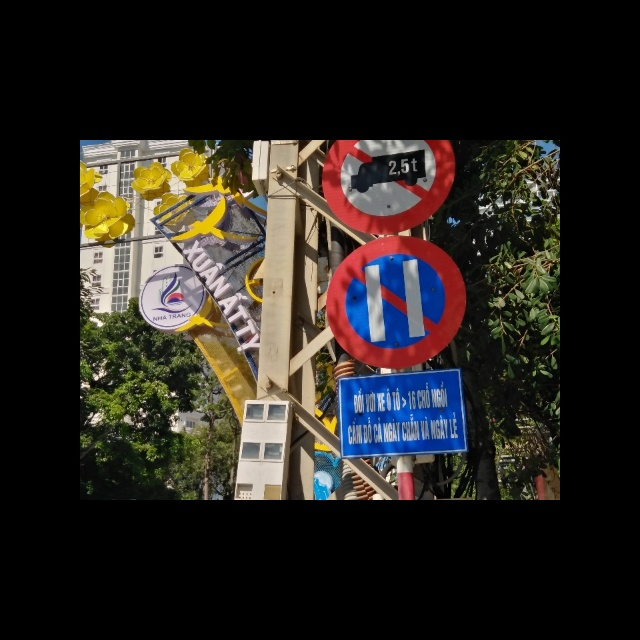Cấm xe tải: (326, 140, 459, 235)
Cấm đỗ xe ngày chẵn: (321, 236, 467, 366)
